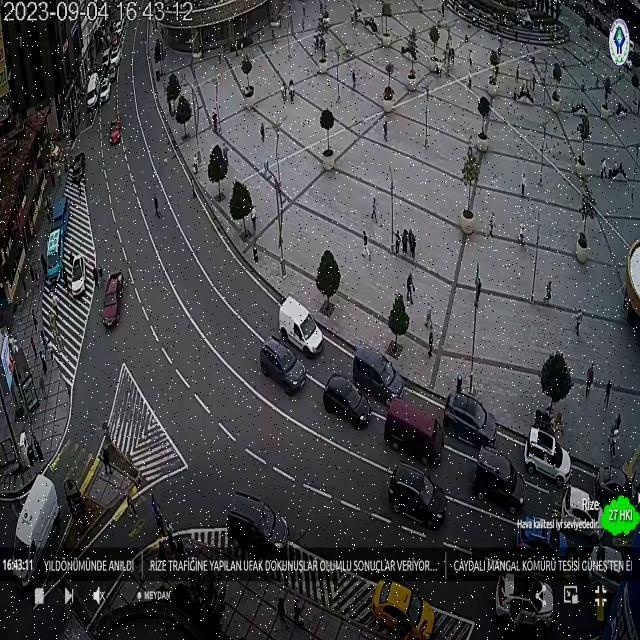Car: (11, 474, 60, 589), (226, 492, 291, 558), (387, 462, 447, 529), (384, 399, 446, 463), (371, 578, 435, 638), (472, 447, 526, 512), (496, 573, 554, 633), (173, 558, 225, 623), (351, 343, 407, 403), (443, 393, 499, 449), (524, 425, 571, 485), (260, 337, 308, 395), (322, 374, 373, 428), (278, 297, 323, 357), (558, 485, 600, 543), (518, 514, 568, 558), (588, 545, 624, 591), (594, 464, 632, 506), (101, 272, 126, 327), (64, 477, 87, 520), (157, 532, 185, 564), (67, 254, 87, 296), (17, 431, 33, 470), (69, 154, 86, 182), (98, 78, 112, 104), (232, 36, 254, 51), (7, 334, 20, 356), (86, 90, 100, 110), (107, 61, 118, 82), (100, 59, 110, 80), (112, 20, 122, 36)
